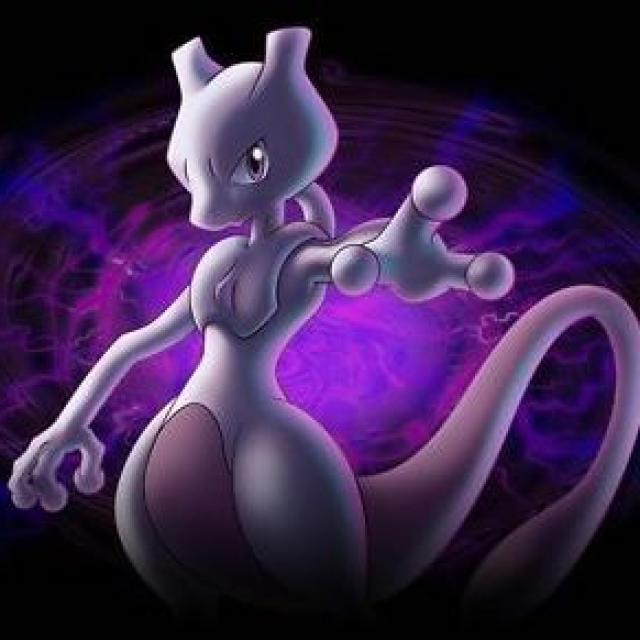Mewtwo: (101, 26, 413, 629)
